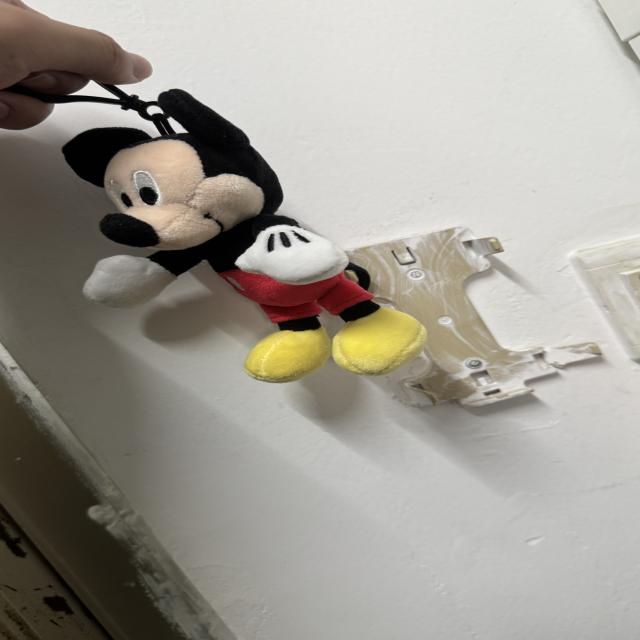mickey: (64, 90, 426, 382)
